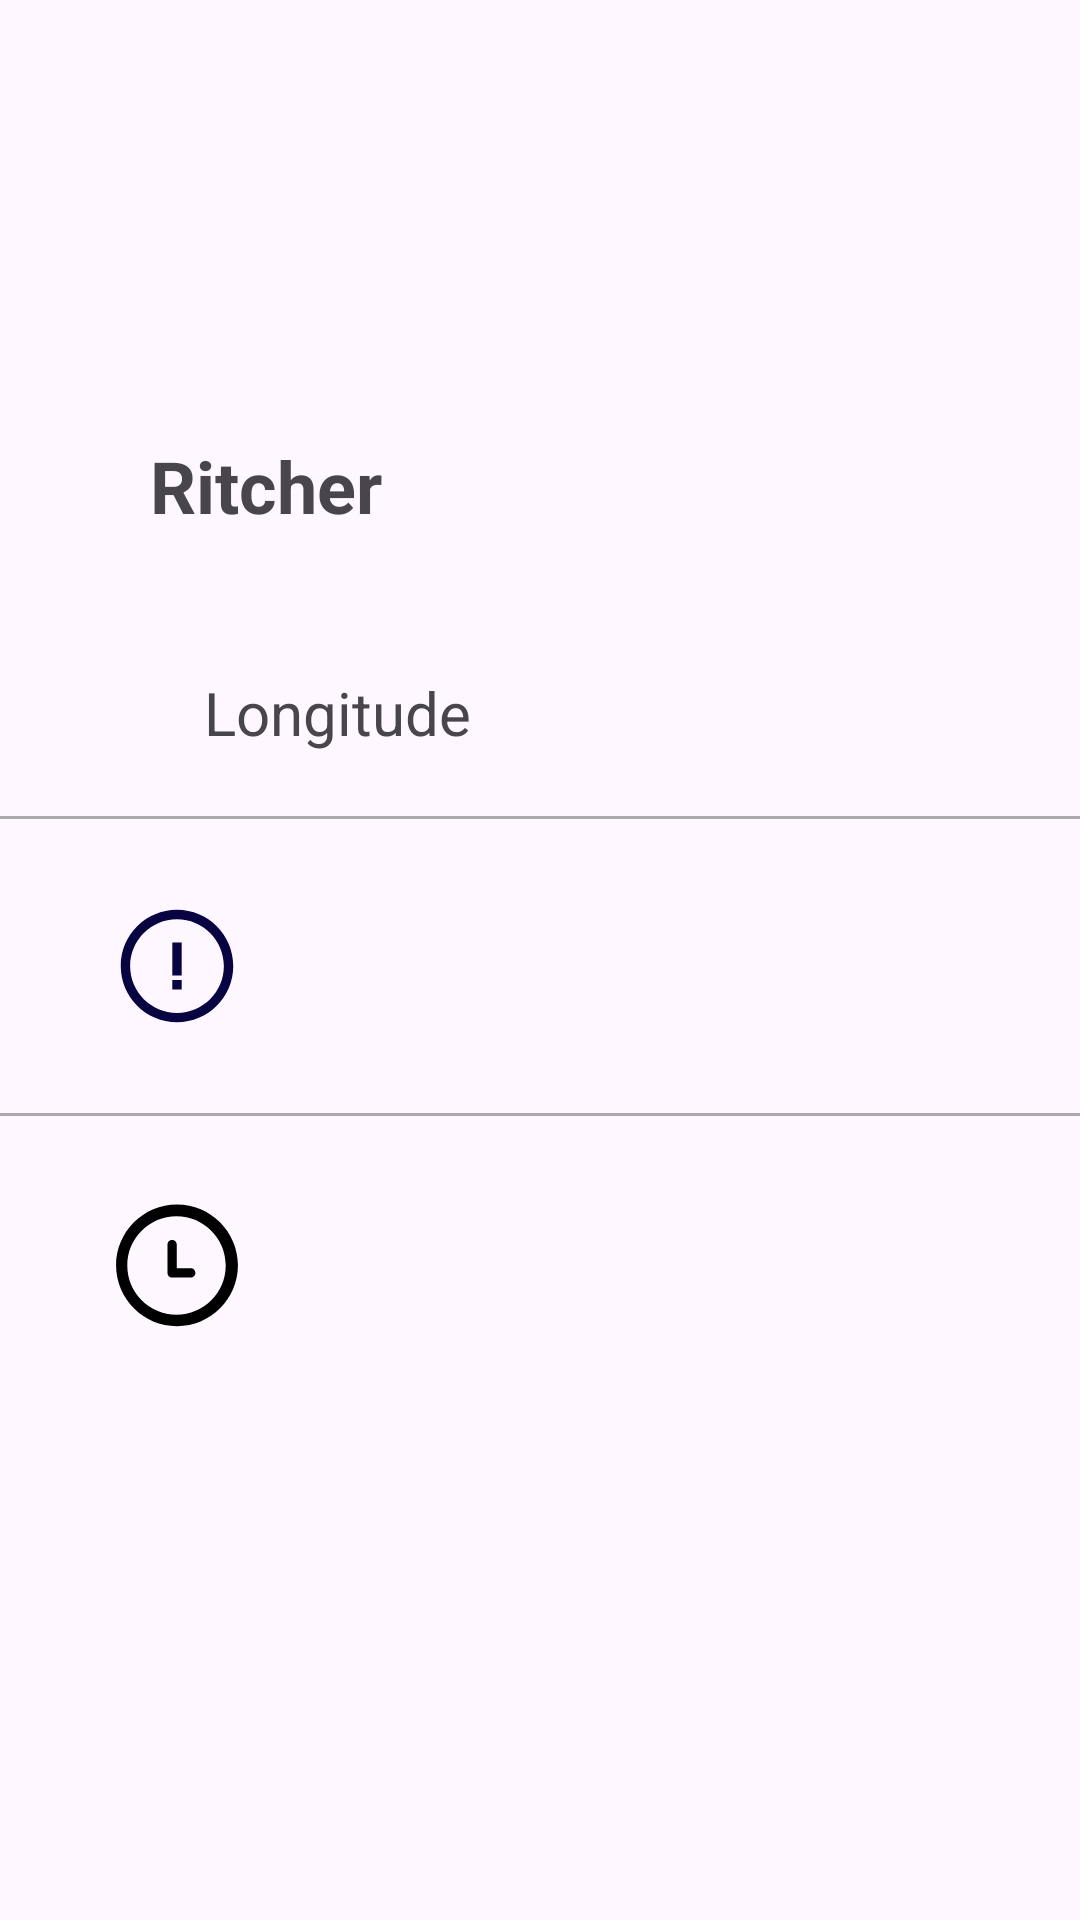

Screen size 1080x1920. Icon name, then its box in pixels as (x1, y1, x2, y2):
time: (116, 1204, 238, 1327)
warning circle: (120, 909, 234, 1023)
